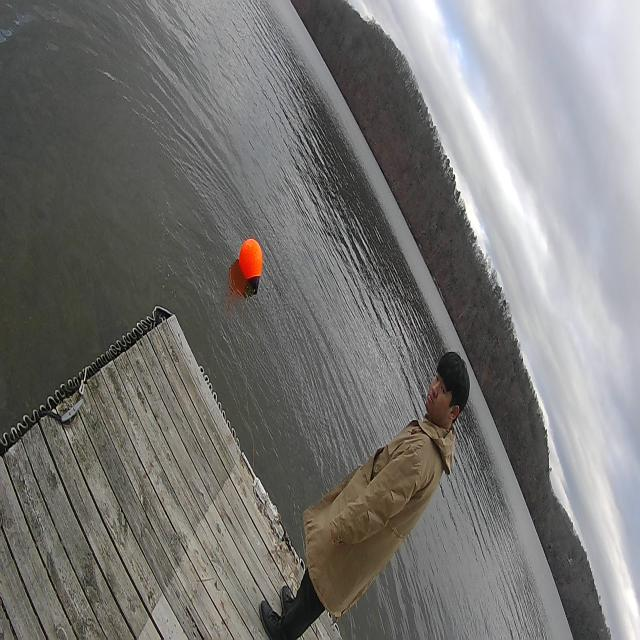Buoy: (236, 231, 266, 300)
